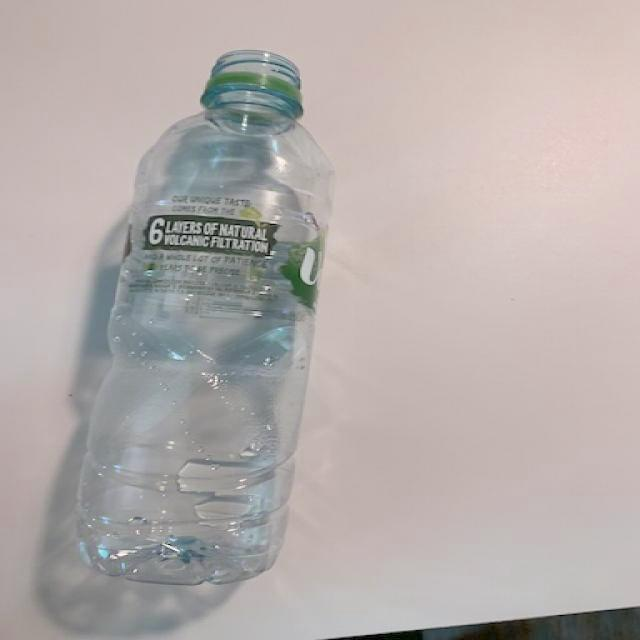bottle: (72, 49, 336, 587)
